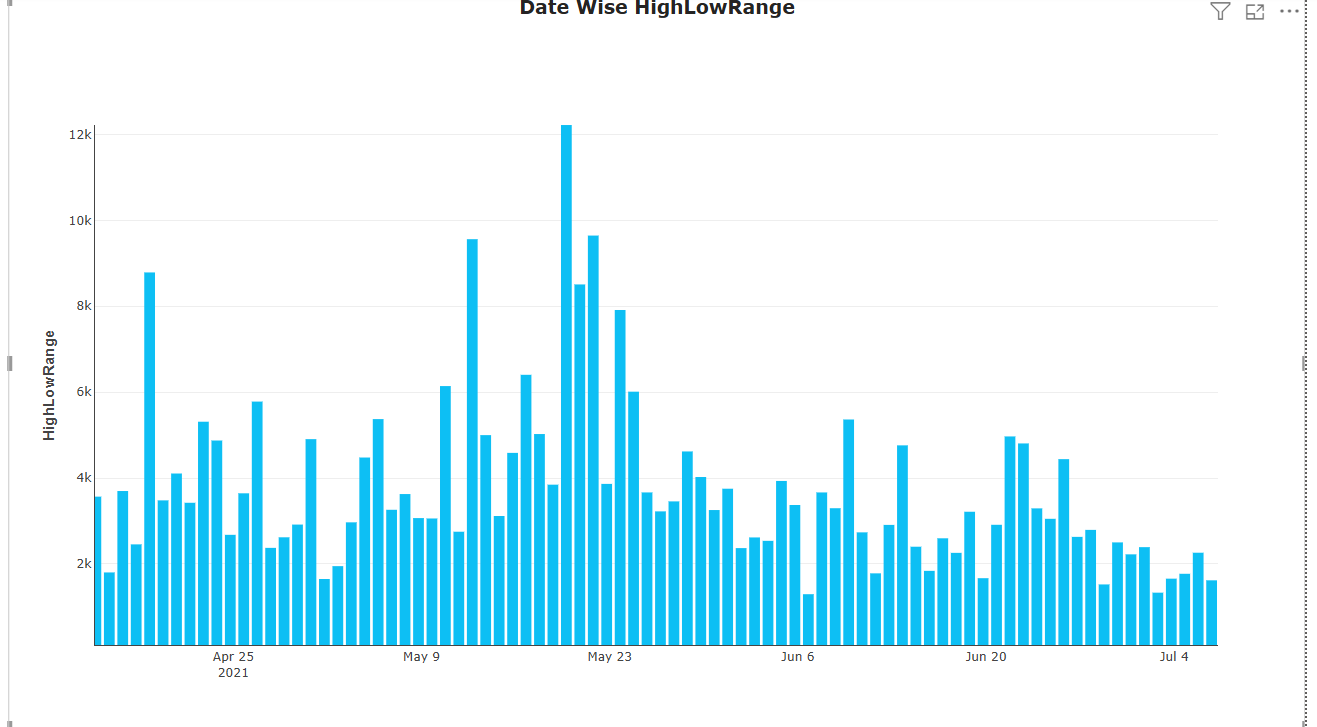

Layout of this report page (visuals, bound fields, positions):
{"tool":"powerbi","page":{"name":"Plotly Analysis","canvas":[1280,720],"ordinal":2},"visuals":[{"type":"plotlyJSVisualEEDDFAAB4619388784AE7972BC162ECDFAAB46196","title":"Date Wise HighLowRange","fields":{"data":["CryptoDataSet.Date","Sum(CryptoDataSet.HighLowRange)"]},"box":[11,0,1269.3,721.5],"z":0}]}

Visuals, with their boxes on the page's 1280x720 design canvas (x1, y1, x2, y2). These are canvas units, not pixel positions in the 1317x727 screenshot, which may show the page scaled, cropped or inside an application window:
"Date Wise HighLowRange" plotlyJSVisualEEDDFAAB4619388784AE7972BC162ECDFAAB46196: box=[11, 0, 1280, 722]
